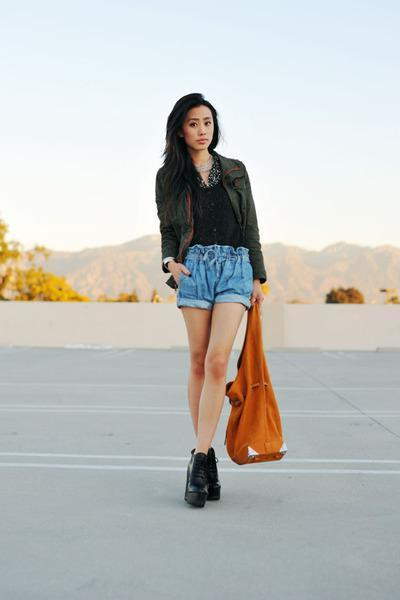Shorts: (169, 243, 258, 309)
jacket: (154, 153, 263, 281)
short sleeve shirt: (180, 151, 244, 249)
